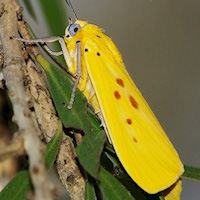Agape chloropyga: (11, 1, 189, 194)
moth: (10, 1, 188, 195)
